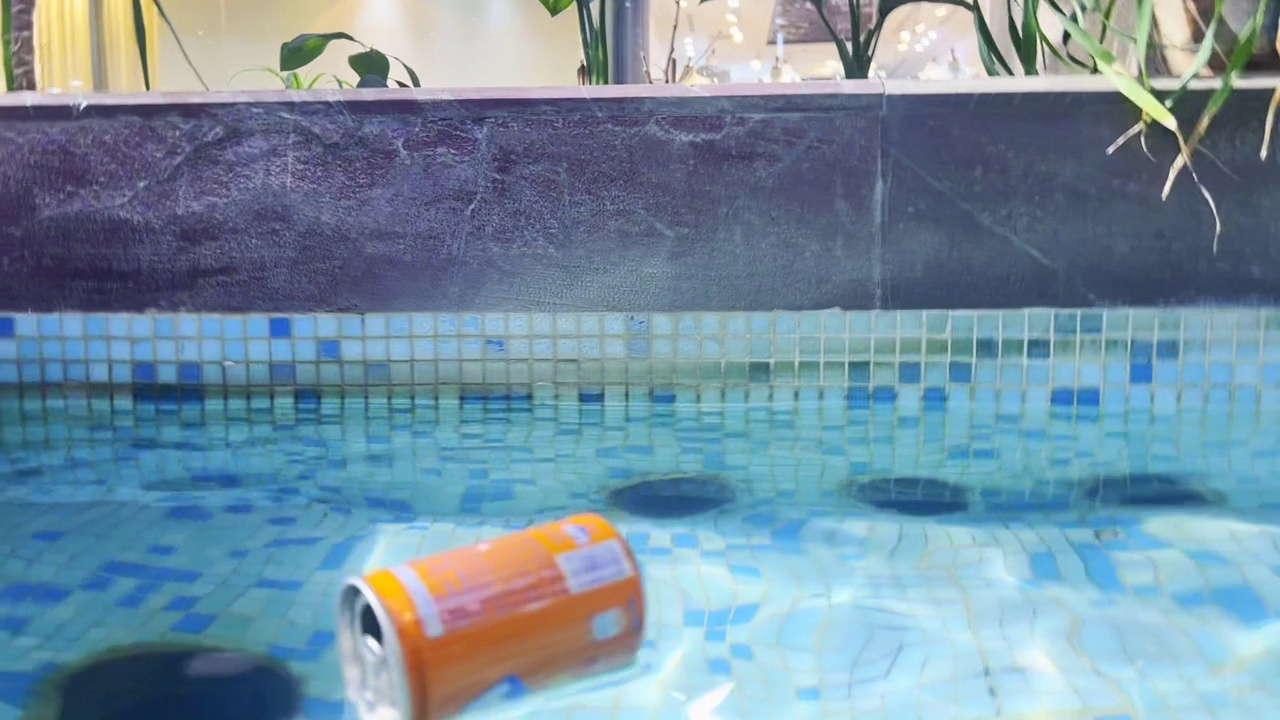debris: (321, 504, 652, 720)
